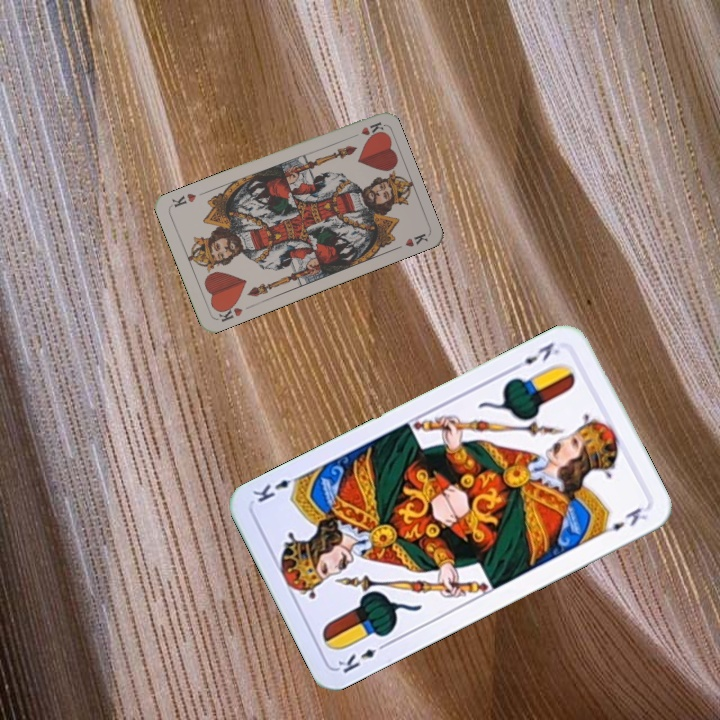EK: (333, 638, 391, 676), (509, 338, 563, 373)
HK: (345, 118, 385, 141), (213, 299, 245, 324)
